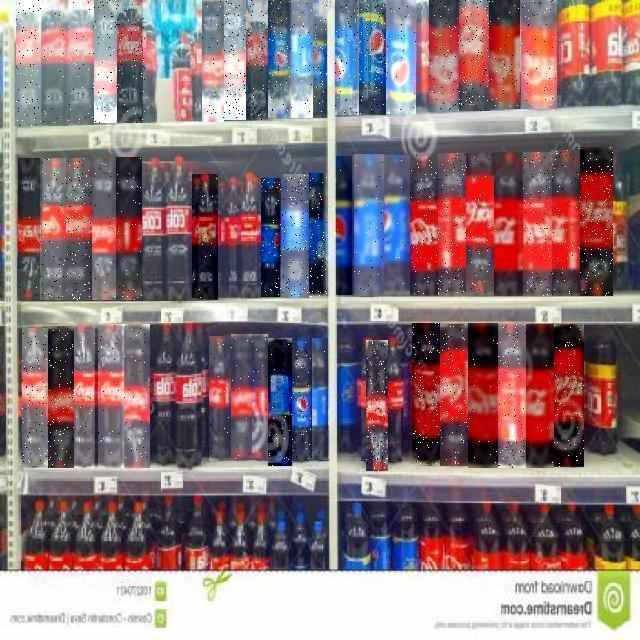Drinks: (579, 147, 613, 296), (468, 323, 498, 468), (522, 152, 552, 296), (554, 324, 584, 467), (354, 155, 384, 297), (551, 150, 580, 296), (494, 152, 523, 296), (497, 324, 526, 468), (122, 324, 150, 468), (526, 324, 554, 468), (466, 154, 494, 296), (439, 154, 467, 296), (410, 155, 438, 297), (441, 325, 469, 467), (412, 324, 440, 466), (521, 0, 557, 109), (382, 156, 410, 296), (98, 324, 124, 468), (116, 157, 142, 300), (48, 326, 74, 468), (66, 158, 92, 300), (40, 158, 66, 300), (23, 328, 49, 466), (40, 0, 68, 126), (66, 0, 94, 125), (429, 0, 460, 112), (118, 0, 146, 123), (459, 0, 490, 111), (386, 0, 416, 114), (74, 327, 98, 469), (92, 158, 116, 300), (18, 158, 42, 300), (489, 0, 520, 109), (193, 174, 219, 300), (283, 174, 309, 298), (16, 0, 41, 126), (359, 0, 386, 115), (268, 339, 292, 467), (366, 340, 388, 471), (94, 0, 117, 123), (291, 338, 313, 464), (335, 0, 359, 115), (209, 336, 231, 461), (290, 0, 313, 118), (268, 0, 291, 118), (202, 0, 224, 122), (231, 334, 252, 460), (225, 0, 247, 120), (247, 0, 269, 120), (262, 178, 284, 297), (308, 174, 328, 298), (336, 156, 352, 295), (252, 334, 268, 460), (312, 338, 328, 460), (313, 0, 327, 118)
